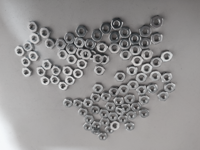nut: (150, 16, 164, 29), (139, 24, 152, 37), (139, 36, 152, 49), (39, 26, 52, 39), (151, 32, 163, 45), (161, 50, 173, 63), (141, 49, 154, 61), (119, 39, 132, 51), (111, 18, 123, 31), (129, 33, 141, 45), (27, 21, 39, 33), (132, 56, 144, 67), (115, 72, 127, 83), (121, 26, 132, 38), (101, 23, 112, 35), (76, 26, 88, 37), (93, 54, 105, 65), (55, 38, 66, 50), (28, 51, 40, 62), (21, 67, 33, 78), (150, 58, 163, 68), (119, 51, 132, 61), (94, 65, 105, 76), (162, 72, 173, 83), (81, 49, 92, 60), (136, 73, 147, 84), (30, 34, 41, 45), (45, 39, 56, 50), (58, 81, 69, 92), (125, 93, 136, 104), (110, 121, 121, 132), (141, 64, 153, 74), (130, 46, 142, 56), (109, 32, 121, 42), (164, 83, 176, 93), (74, 38, 86, 48), (76, 59, 88, 69), (73, 69, 85, 79), (65, 33, 75, 45), (22, 42, 34, 52), (14, 47, 26, 57), (20, 57, 32, 67), (93, 84, 105, 94), (127, 67, 138, 77), (97, 42, 108, 52), (92, 30, 103, 40), (150, 72, 161, 82), (42, 59, 52, 70), (65, 76, 76, 86), (158, 92, 169, 102), (140, 108, 150, 119), (128, 80, 139, 90), (109, 87, 120, 97), (91, 93, 102, 103), (90, 105, 101, 115), (105, 102, 116, 112), (126, 111, 137, 121), (62, 67, 74, 76), (136, 86, 148, 95), (118, 85, 130, 94), (110, 44, 120, 54), (58, 50, 68, 60), (51, 66, 61, 76), (67, 55, 77, 65), (149, 84, 159, 94), (132, 102, 142, 112), (63, 98, 73, 108), (73, 98, 83, 108), (86, 40, 97, 49), (36, 67, 47, 76), (139, 96, 150, 105), (97, 133, 108, 142), (120, 104, 131, 113), (99, 55, 109, 64), (88, 50, 98, 59), (76, 49, 86, 58), (79, 108, 89, 117), (100, 110, 110, 119), (108, 113, 118, 122), (101, 93, 111, 102), (106, 126, 115, 136), (84, 116, 95, 124), (125, 123, 136, 131), (40, 77, 49, 86), (92, 121, 101, 130), (114, 97, 123, 106), (83, 100, 93, 108), (83, 124, 92, 132), (102, 119, 110, 127), (50, 78, 59, 85), (68, 45, 75, 54), (119, 115, 126, 124), (116, 107, 123, 115)
